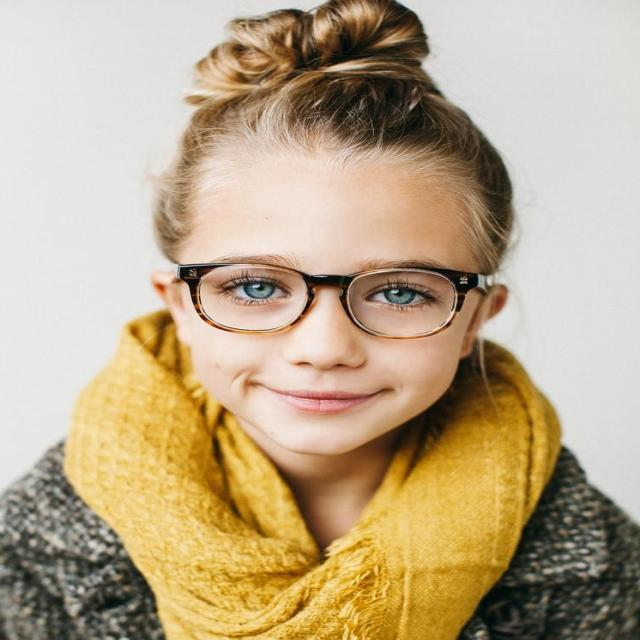Glasses: (178, 255, 491, 341)
